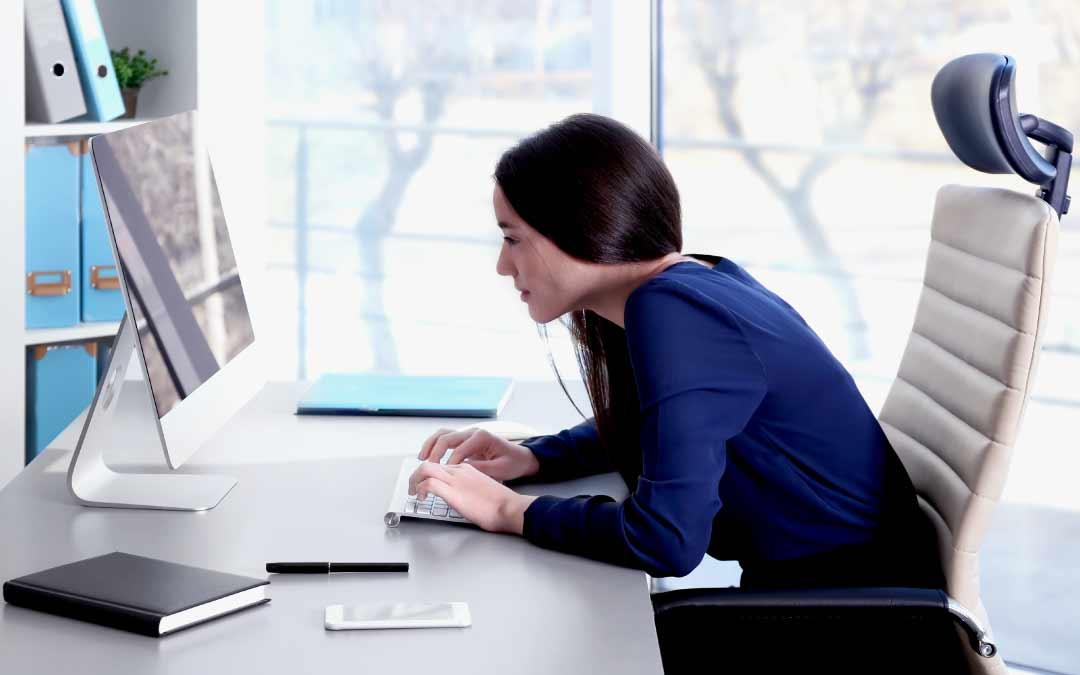Bad Sitting Posture: (297, 65, 993, 637)
